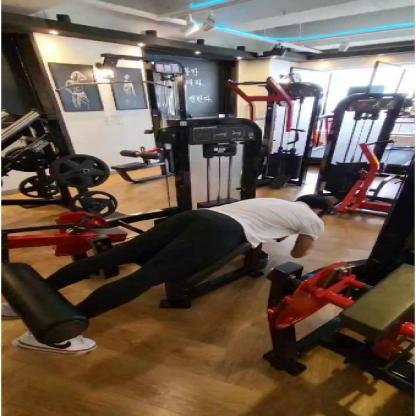reg curl machine: (0, 113, 341, 369)
